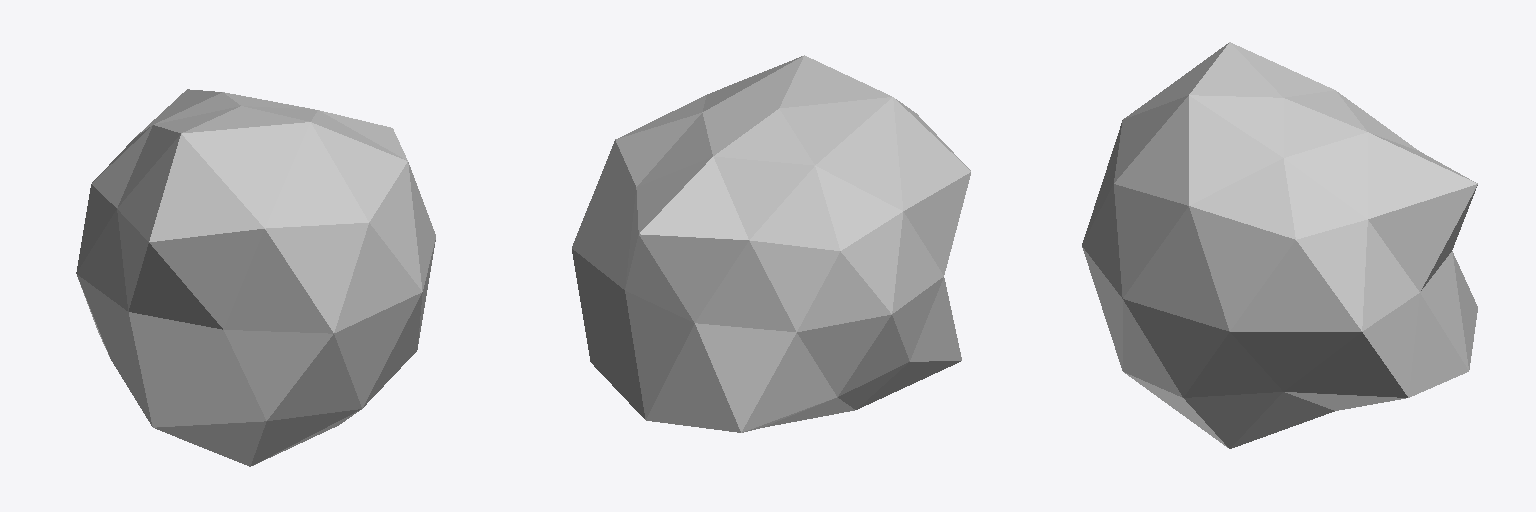
File: explosion.obj
3 renders of one model, left to right at view 1: azimuth 30°, elevation 25°; view 2: azimuth 150°, elevation 25°; view 3: azimuth 270°, elevation 25°, orthographic.
Parts seen in each view (by area): view 1: ICO球; view 2: ICO球; view 3: ICO球.
Part boxes in pixels (x1,y1,x2,y2): ICO球: (76,89,435,466); ICO球: (572,55,970,432); ICO球: (1082,42,1477,448).
Bounding box in the file's own units: 2.13 × 2.16 × 2.35.